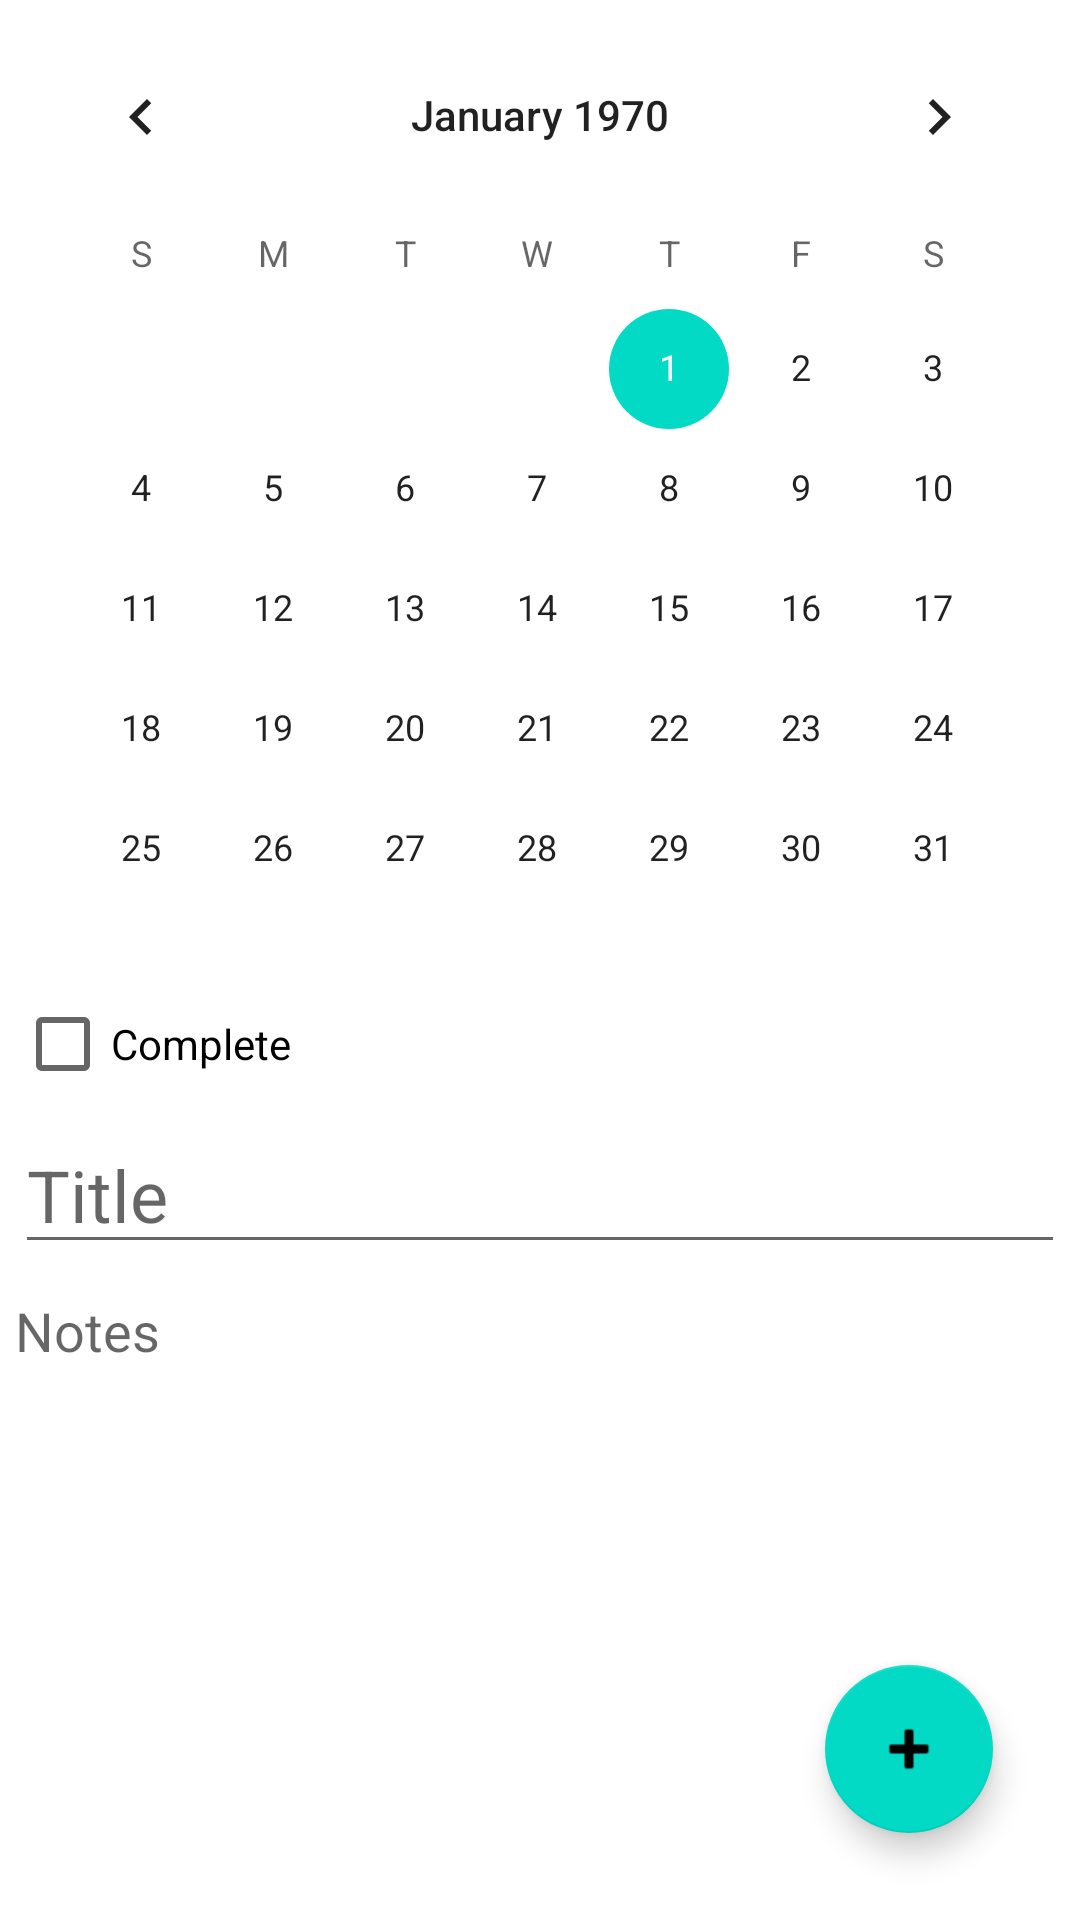

Where to tap for icons on this 1080px×1920px app screen, as (x,y):
add: (909,1749)
